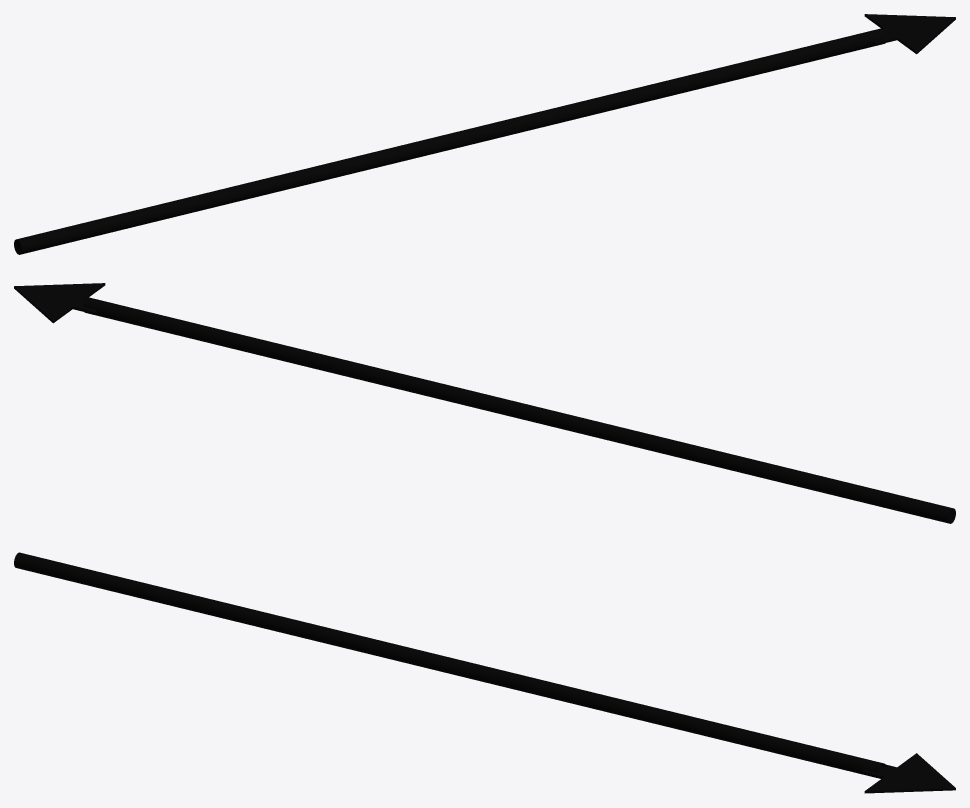
Rendered from vector.glb.
The picture shows the model from 3 angles, top to bottom: view 1: azimuth 30°, elevation 25°; view 2: azimuth 150°, elevation 25°; view 3: azimuth 330°, elevation 25°; orthographic projection.
Parts seen in each view (by area): view 1: Cylinder.001; view 2: Cylinder.001; view 3: Cylinder.001.
Part boxes in pixels (bbox=[...]): Cylinder.001: bbox=[14, 14, 955, 254]; Cylinder.001: bbox=[14, 283, 955, 523]; Cylinder.001: bbox=[14, 552, 955, 793].
Size of the model in its own units: 2.73 by 0.0402 by 0.2628.
Materials: 2 (2 with a texture image).
